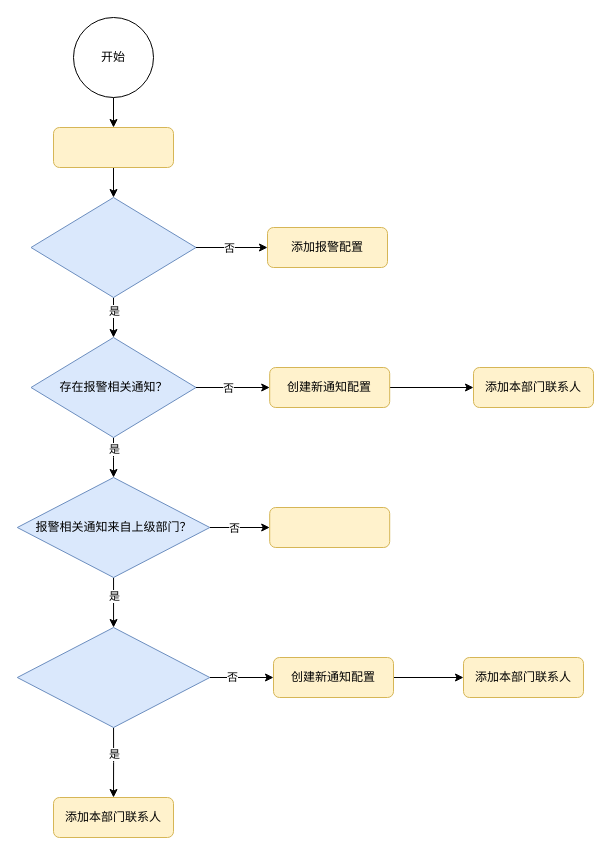
The diagram is 612 pixels wide and 855 high, and some of its shapes have lost their labels. The shapes that lost their labels are listed below. From the top down, each one's centre as x and y in pixels, then its label:
At point (113, 147): "选择所需报警类型".
At point (113, 247): "存在报警配置？".
At point (329, 527): "修改报警通知配置".
At point (113, 677): "应用相关报警通知配置？".
